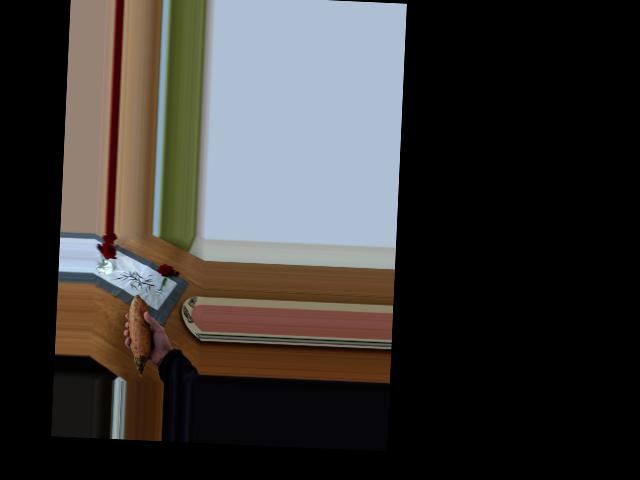sweet_potato: (123, 292, 160, 370)
